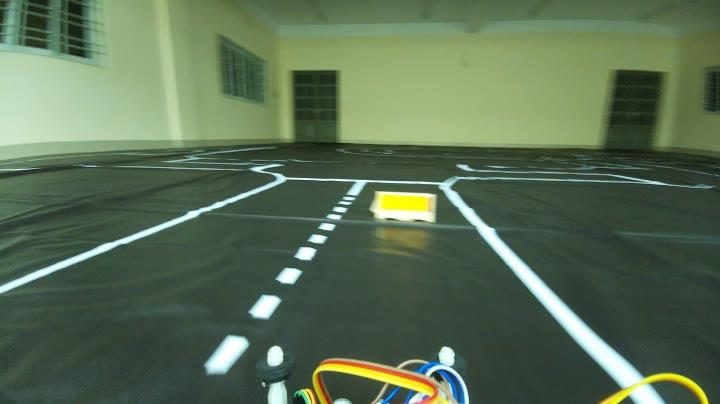roadblock: (366, 186, 440, 234)
